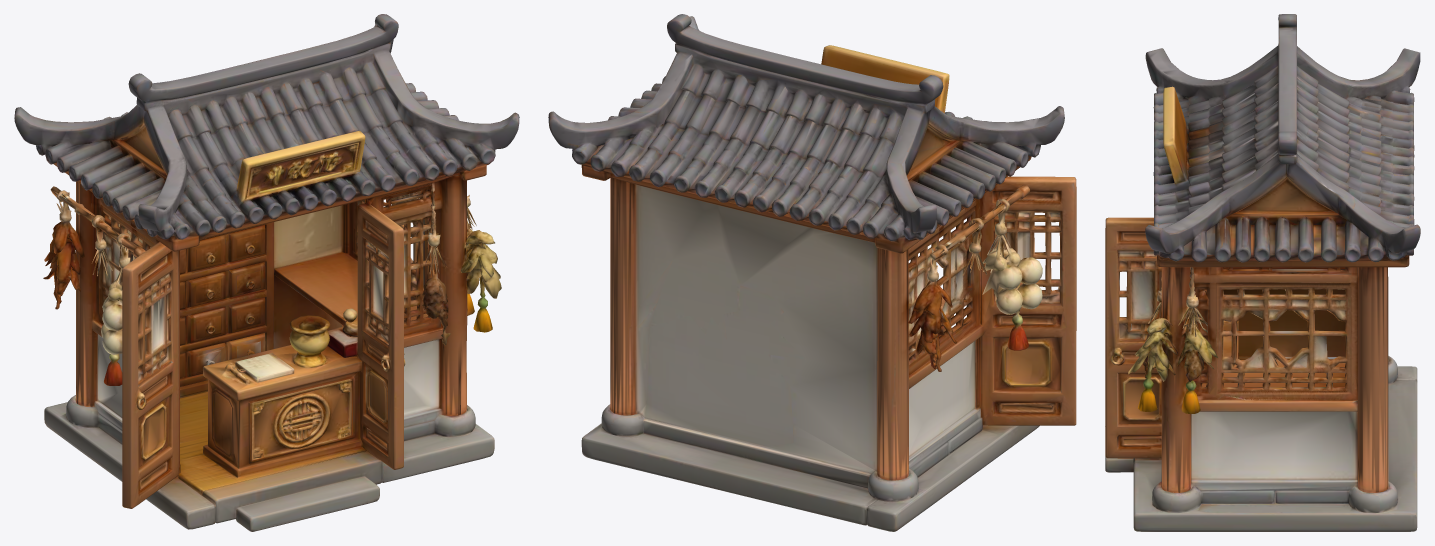
The model's file is zhongyaopu.glb.
3 renders of one model, left to right at view 1: azimuth 30°, elevation 25°; view 2: azimuth 150°, elevation 25°; view 3: azimuth 270°, elevation 25°, orthographic. The views are drawn at different scales.
Visible parts, largest first — view 1: node_0; view 2: node_0; view 3: node_0.
Boxes of the visible parts, bbox=[...] form: node_0: bbox=[14, 14, 519, 531]; node_0: bbox=[548, 14, 1076, 531]; node_0: bbox=[1105, 14, 1420, 531].
Size of the model in its own units: 0.8555 by 0.8153 by 0.6007.
Materials: 1 (1 with a texture image).
